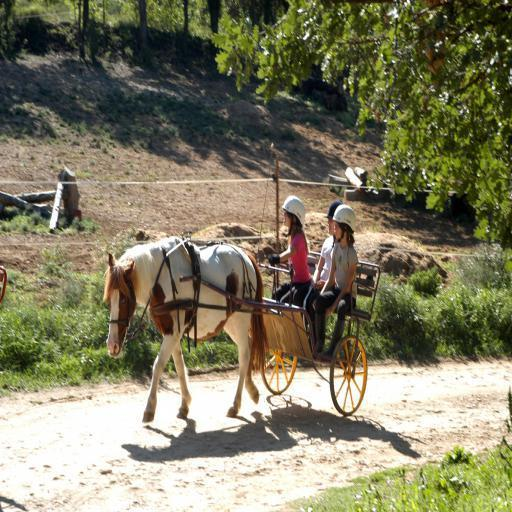horse: (102, 230, 270, 425)
